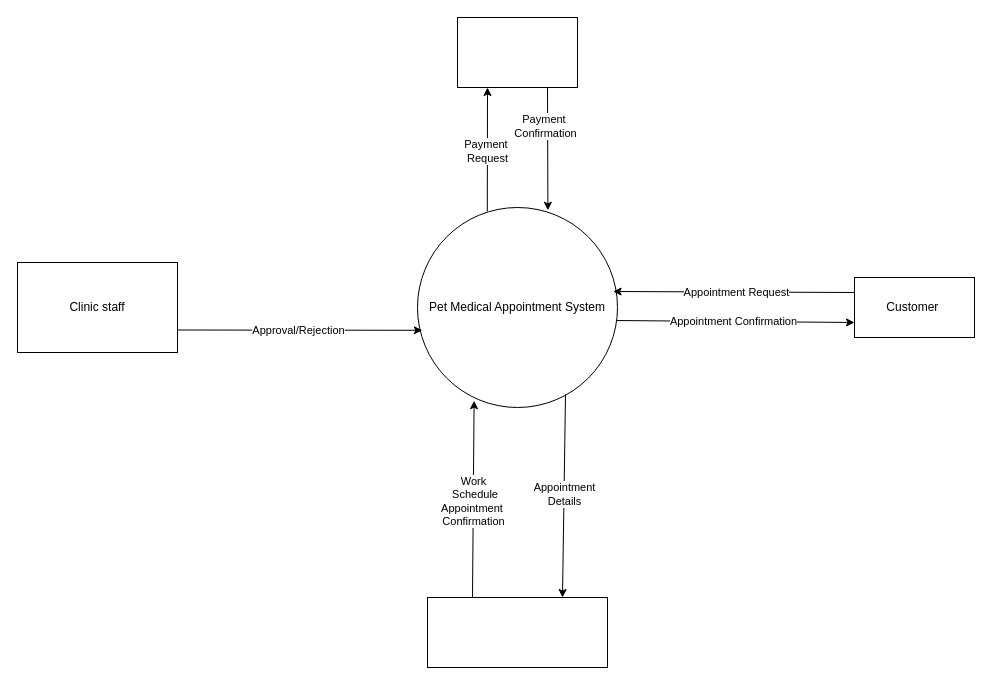
The diagram is 992 pixels wide and 685 high, and some of its shapes have lost their labels. Each missing label, with the centre of its shape:
Payment System: the point at 517,52
Veterinarian: the point at 517,632
